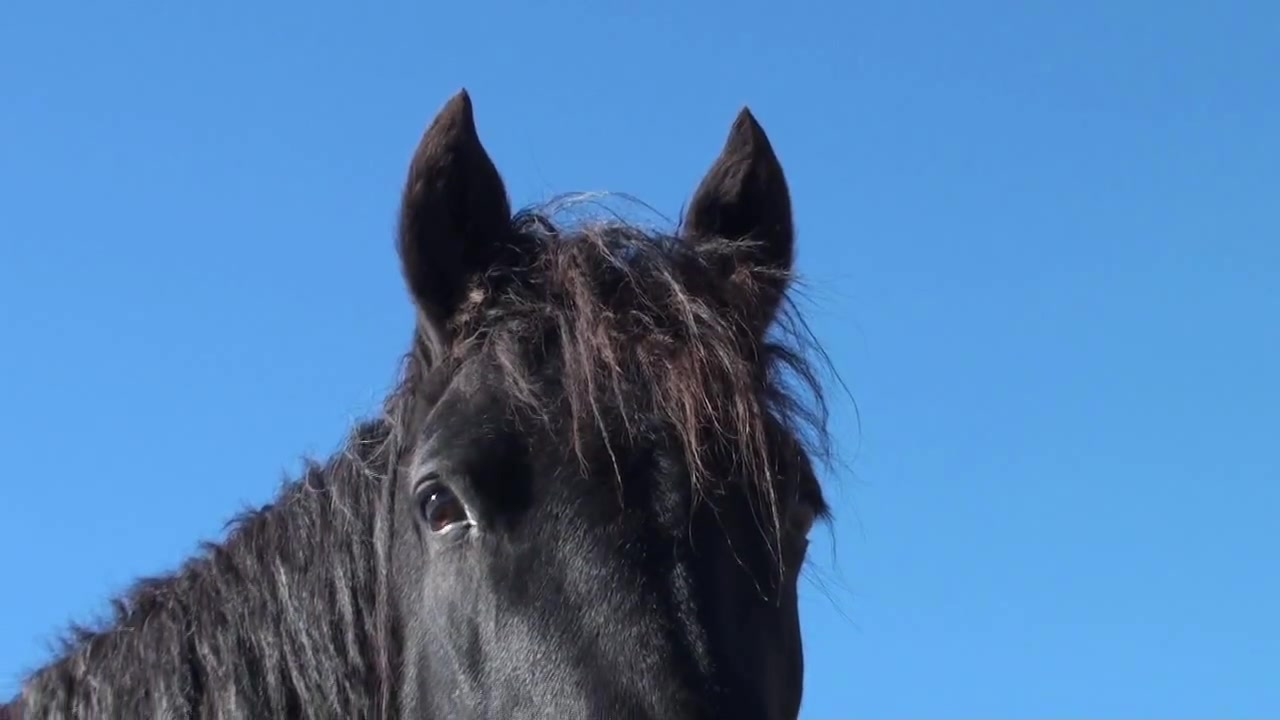horse: (1, 85, 851, 720)
